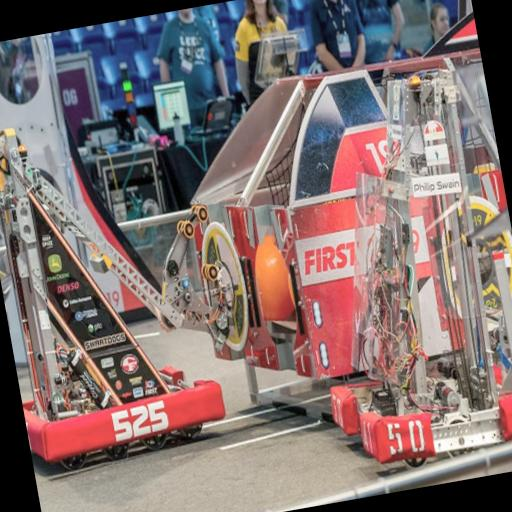robot: (271, 60, 512, 473), (0, 87, 230, 474)
